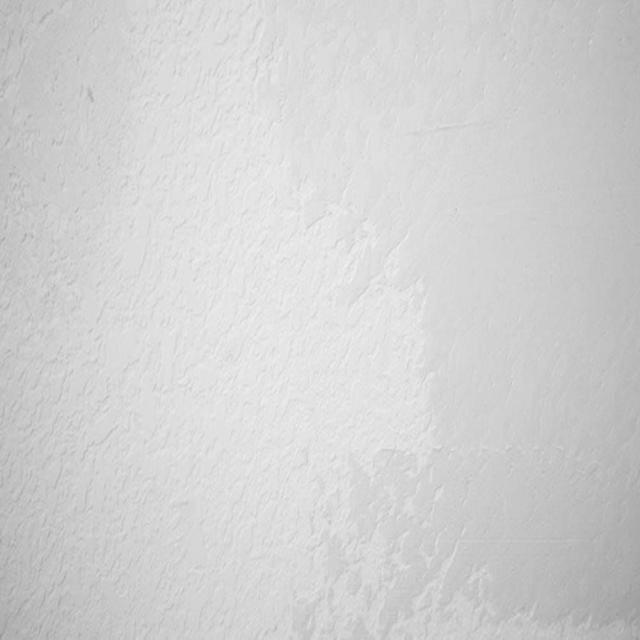rough and patchy surface: (8, 9, 636, 630)
